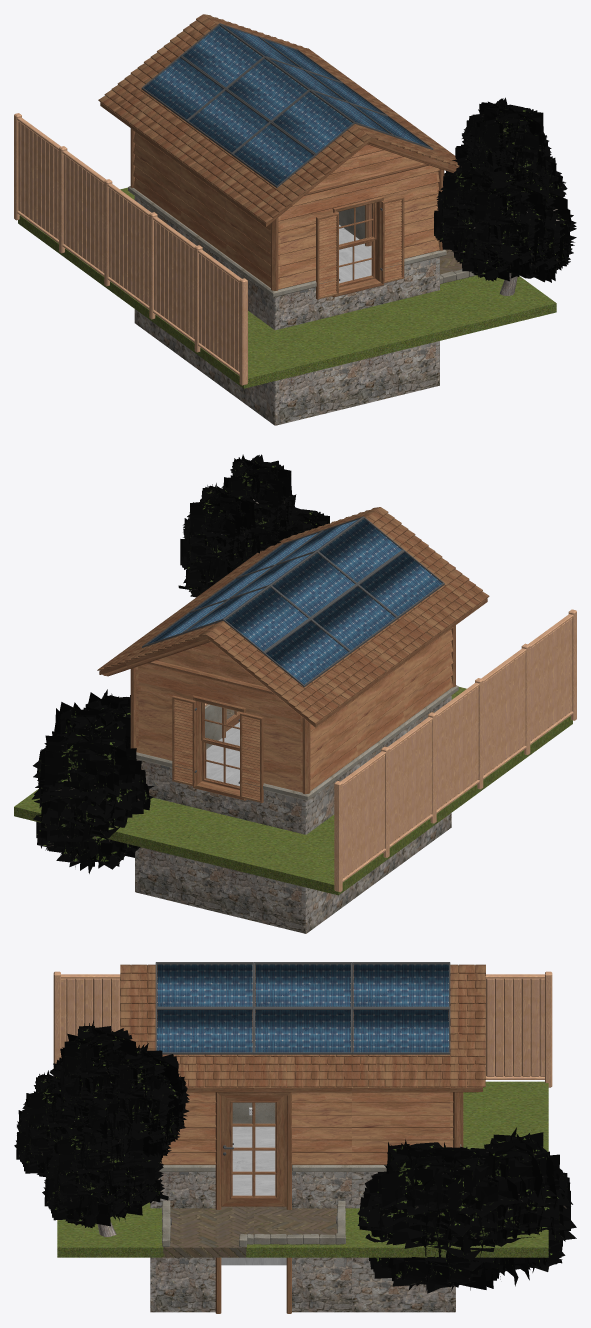
File: garage-modular-shed-with-interior.glb
The picture shows the model from 3 angles, top to bottom: view 1: azimuth 30°, elevation 25°; view 2: azimuth 150°, elevation 25°; view 3: azimuth 270°, elevation 25°; orthographic projection. The views are drawn at different scales.
Parts seen in each view (by area): view 1: Object_10, Object_30, Object_31, Object_7, Object_14, Object_8, Object_5, Object_6, Object_18, Object_11, Object_15, Object_17 (+5 smaller); view 2: Object_10, Object_31, Object_7, Object_8, Object_14, Object_28, Object_30, Object_5, Object_6, Object_18, Object_11, Object_15 (+7 smaller); view 3: Object_30, Object_31, Object_8, Object_14, Object_7, Object_10, Object_29, Object_28, Object_27, Object_5, Object_4, Object_19 (+9 smaller).
Part boxes in pixels (x1=…): Object_10: x1=14, y1=113, x2=247, y2=385; Object_30: x1=434, y1=97, x2=576, y2=282; Object_31: x1=144, y1=25, x2=428, y2=185; Object_7: x1=133, y1=130, x2=439, y2=289; Object_14: x1=18, y1=187, x2=556, y2=388; Object_8: x1=134, y1=196, x2=439, y2=425; Object_5: x1=100, y1=102, x2=458, y2=297; Object_6: x1=115, y1=113, x2=404, y2=299; Object_18: x1=114, y1=91, x2=275, y2=212; Object_11: x1=141, y1=23, x2=461, y2=280; Object_15: x1=98, y1=41, x2=459, y2=223; Object_17: x1=124, y1=14, x2=450, y2=163; Object_10: x1=205, y1=609, x2=576, y2=892; Object_31: x1=147, y1=519, x2=442, y2=684; Object_7: x1=135, y1=627, x2=453, y2=792; Object_8: x1=135, y1=695, x2=451, y2=933; Object_14: x1=14, y1=687, x2=572, y2=895; Object_28: x1=32, y1=722, x2=153, y2=873; Object_30: x1=178, y1=454, x2=329, y2=597; Object_5: x1=99, y1=598, x2=487, y2=800; Object_6: x1=172, y1=610, x2=471, y2=802; Object_18: x1=305, y1=587, x2=472, y2=712; Object_11: x1=142, y1=516, x2=444, y2=783; Object_15: x1=97, y1=534, x2=489, y2=723; Object_30: x1=14, y1=1020, x2=189, y2=1228; Object_31: x1=157, y1=964, x2=448, y2=1052; Object_8: x1=150, y1=1172, x2=455, y2=1312; Object_14: x1=57, y1=1081, x2=548, y2=1257; Object_7: x1=160, y1=1092, x2=453, y2=1164; Object_10: x1=53, y1=971, x2=552, y2=1087; Object_29: x1=397, y1=1146, x2=508, y2=1293; Object_28: x1=470, y1=1127, x2=576, y2=1286; Object_27: x1=357, y1=1139, x2=463, y2=1290; Object_5: x1=215, y1=1088, x2=482, y2=1313; Object_4: x1=163, y1=1206, x2=337, y2=1257; Object_19: x1=176, y1=1056, x2=351, y2=1087.
Size of the model in its own units: 7.97 by 6.19 by 10.32.
Materials: 18 (12 with a texture image).
